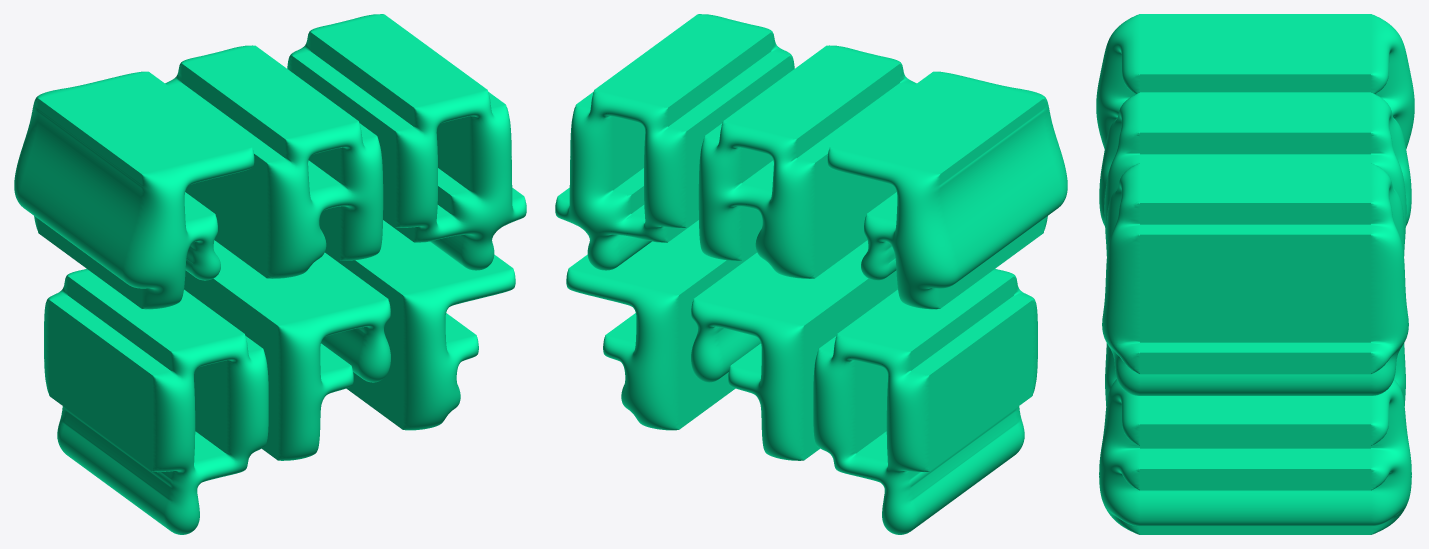
The model's file is FAQ-OFF-Snot.gltf.
3 views of the same model, side by side, from view 1: azimuth 30°, elevation 25°; view 2: azimuth 150°, elevation 25°; view 3: azimuth 270°, elevation 25° (orthographic). The views are drawn at different scales.
Size of the model in its own units: 0.0382 by 0.0335 by 0.0234.
